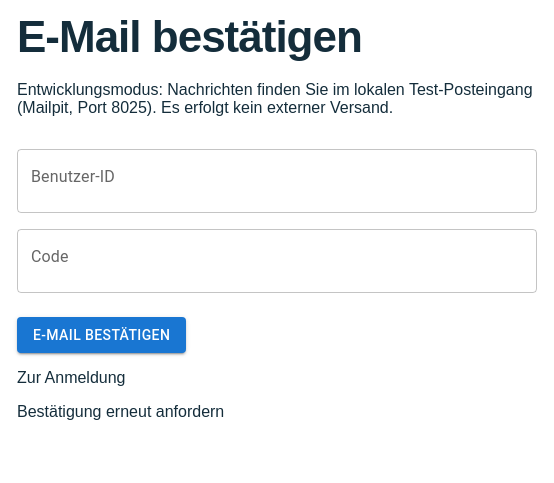
Test: confirmation validates identity and token before any request
Click the button "E-Mail bestätigen": (102, 335) top-left (17, 317), bottom-right (186, 353)
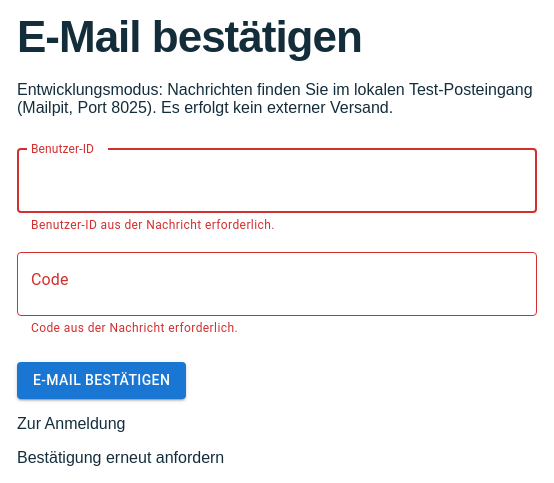
Expected: the text "Benutzer-ID aus der Nachricht erforderlich." is shown, top-left (31, 218), bottom-right (275, 232)
